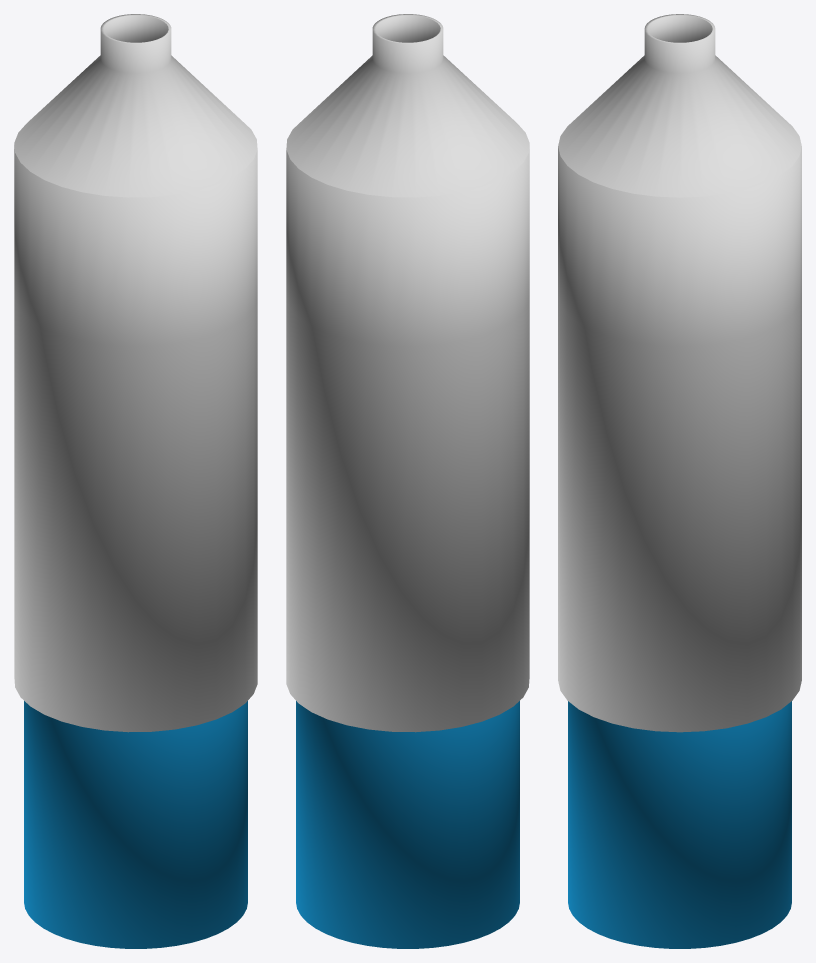
Rendered from bottlewithdarkwater1.glb.
The picture shows the model from 3 angles, left to right: view 1: azimuth 30°, elevation 25°; view 2: azimuth 150°, elevation 25°; view 3: azimuth 270°, elevation 25°; orthographic projection.
Parts seen in each view (by area): view 1: Circle, Cylinder; view 2: Circle, Cylinder; view 3: Circle, Cylinder.
Boxes of the visible parts, x1,y1,x2,y2 form: Circle: [14, 14, 257, 732]; Cylinder: [24, 701, 247, 948]; Circle: [286, 14, 529, 732]; Cylinder: [296, 701, 519, 948]; Circle: [558, 14, 801, 732]; Cylinder: [568, 701, 791, 948].
Bounding box in the file's own units: 2 × 7.9 × 2.
